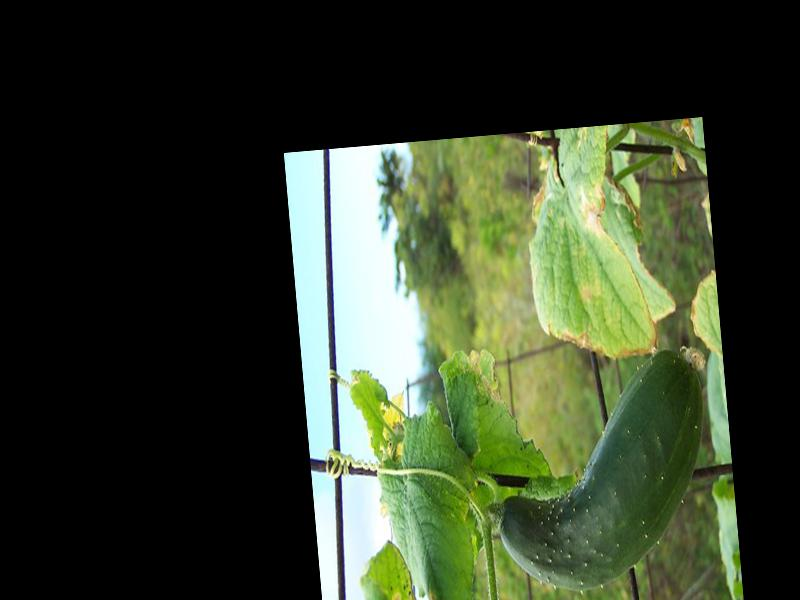Cucumber: (482, 344, 718, 594)
